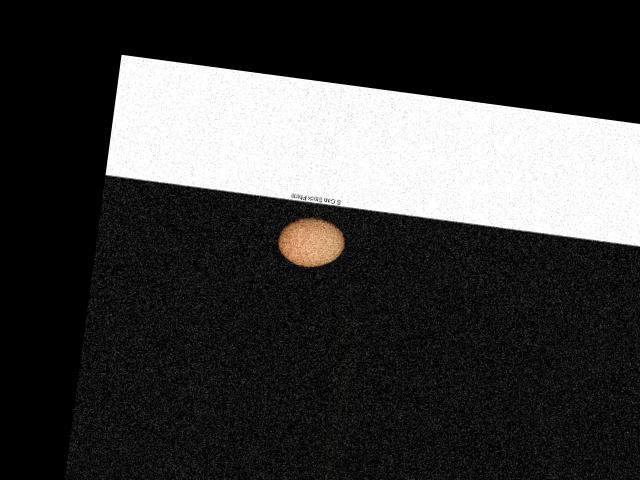egg: (275, 212, 347, 270)
